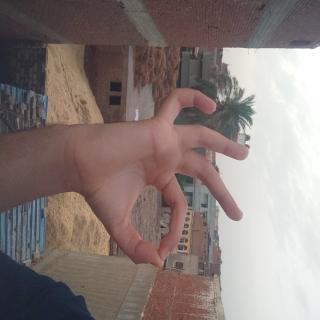Space: (63, 86, 201, 320)
